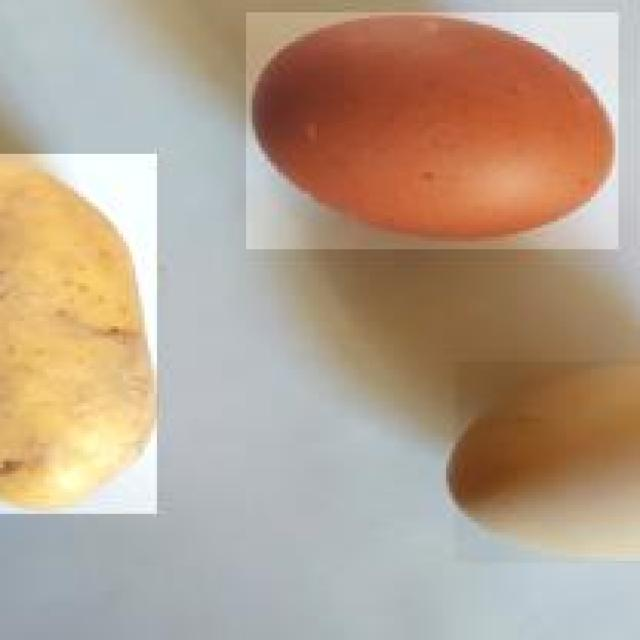egg: (245, 9, 621, 249), (455, 357, 640, 563)
potato: (0, 148, 160, 510)
